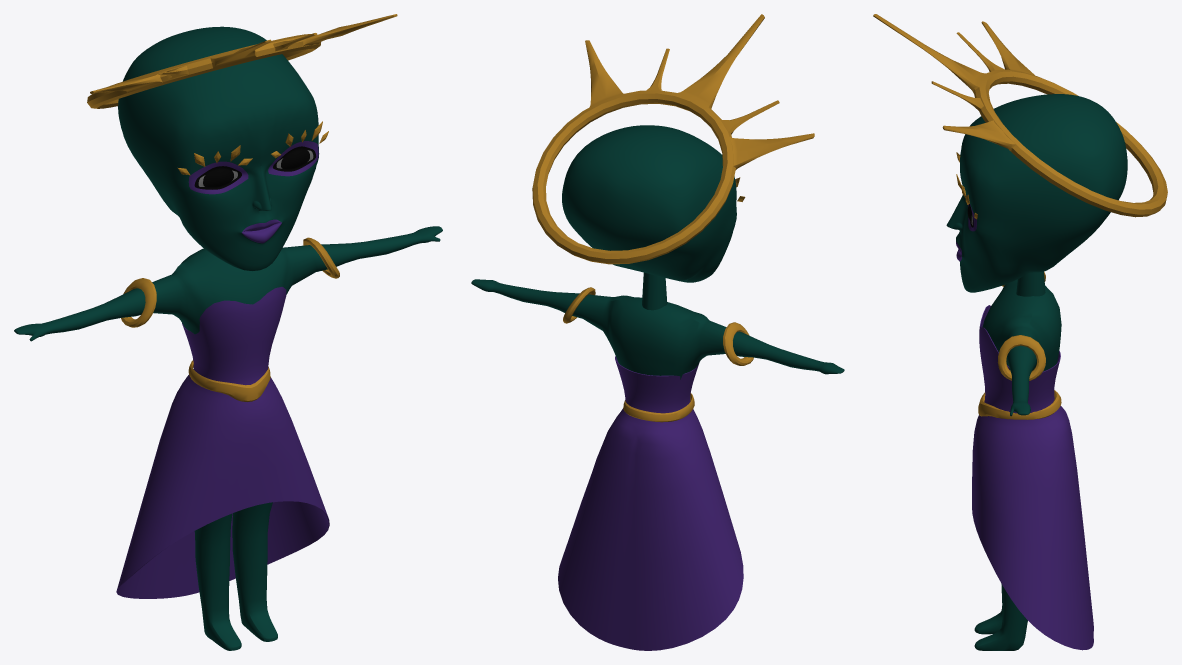
The model's file is Character Female.fbx.
The picture shows the model from 3 angles, left to right: view 1: azimuth 30°, elevation 25°; view 2: azimuth 150°, elevation 25°; view 3: azimuth 270°, elevation 25°; orthographic projection. The views are drawn at different scales.
Parts seen in each view (by area): view 1: Character Female; view 2: Character Female; view 3: Character Female.
Boxes of the visible parts, x1,y1,x2,y2 form: Character Female: [14, 14, 442, 650]; Character Female: [471, 14, 844, 650]; Character Female: [873, 14, 1167, 650].
Bounding box in the file's own units: 316 × 466 × 205.
